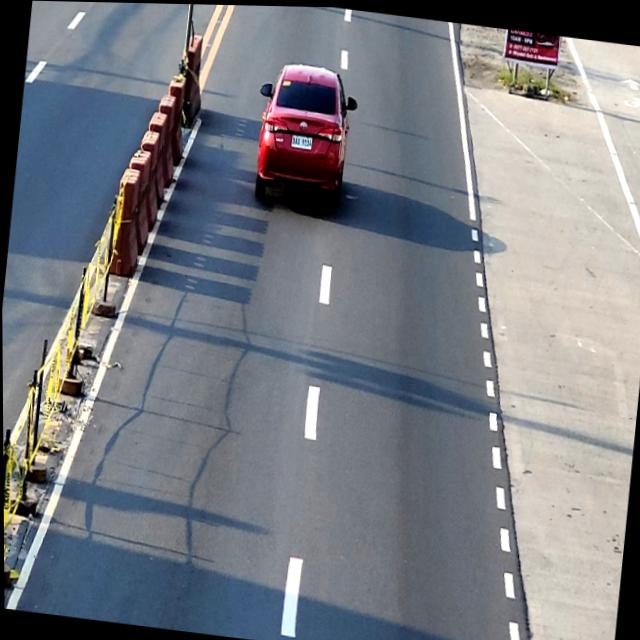Car: (248, 57, 361, 214)
License-Plate: (290, 132, 312, 147)
